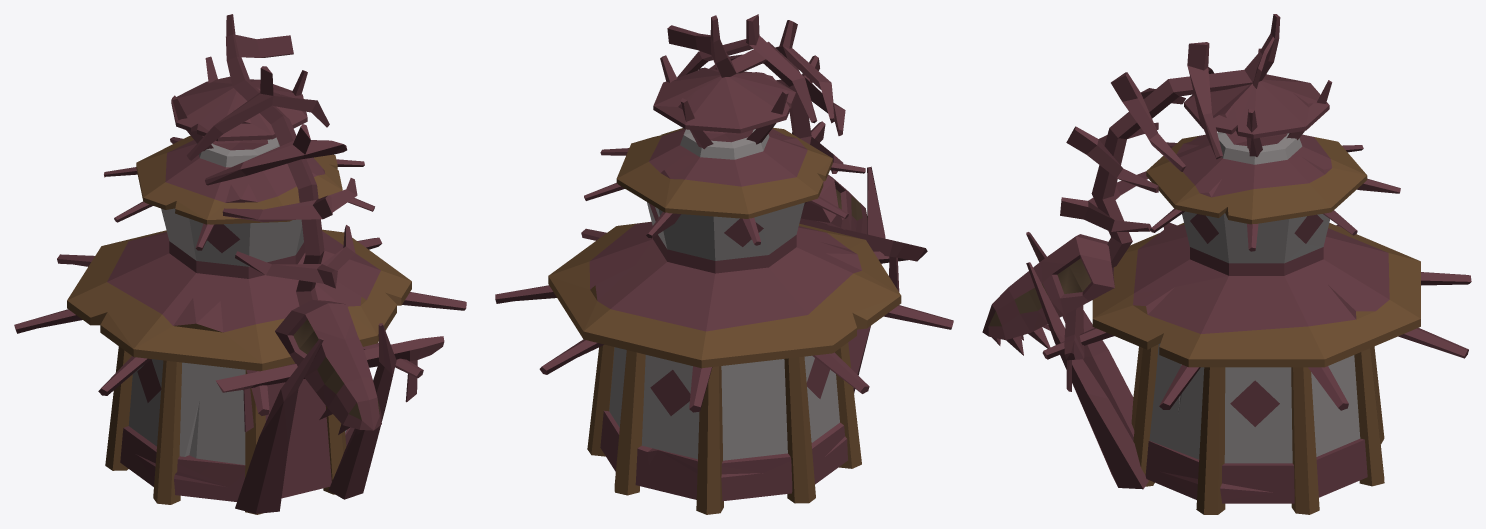
Rendered from SM_Hut_Tribal_Tier4.fbx.
3 renders of one model, left to right at view 1: azimuth 30°, elevation 25°; view 2: azimuth 150°, elevation 25°; view 3: azimuth 270°, elevation 25°, orthographic. The views are drawn at different scales.
Parts seen in each view (by area): view 1: SM_Hut_Tribal_Tier4; view 2: SM_Hut_Tribal_Tier4; view 3: SM_Hut_Tribal_Tier4.
Part boxes in pixels (x1=…): SM_Hut_Tribal_Tier4: x1=14, y1=14, x2=466, y2=514; SM_Hut_Tribal_Tier4: x1=495, y1=14, x2=953, y2=514; SM_Hut_Tribal_Tier4: x1=982, y1=14, x2=1471, y2=514.
Size of the model in its own units: 9.12 by 10.44 by 10.35.
